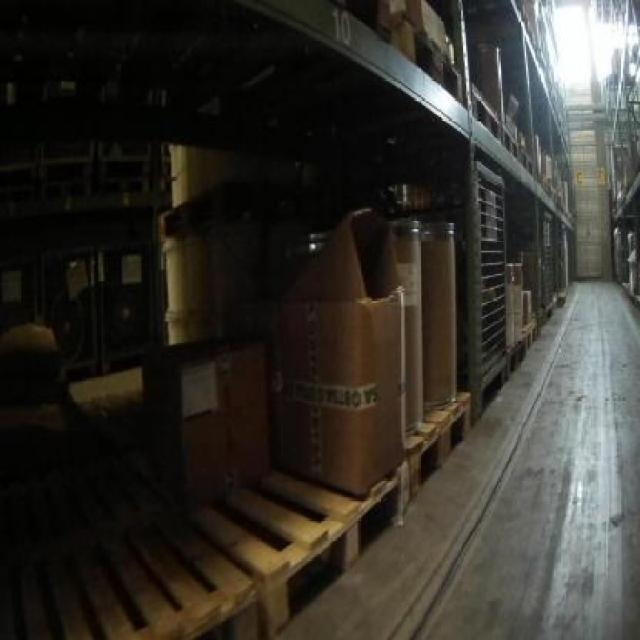pallets: (271, 208, 402, 492)
